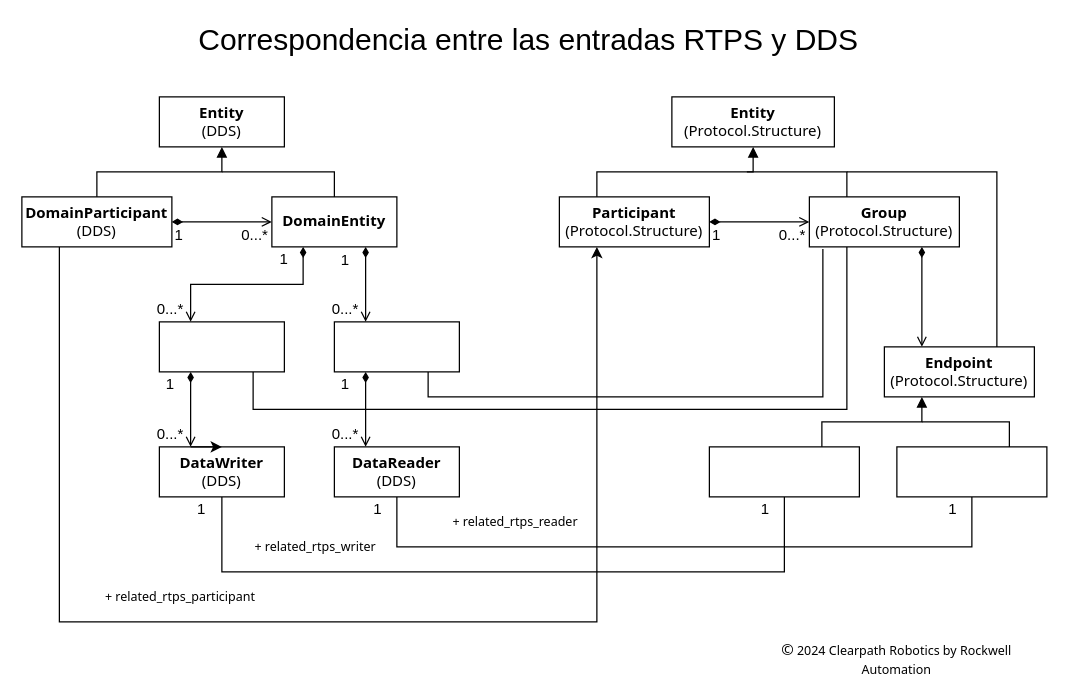
Image size: 1069x699. Some labels were removed from this diagram. Here are the shapes that lost their labels. From the top down, the box of each, then its label:
(158, 321, 284, 372): Publisher (DDS)
(333, 321, 459, 372): Subscriber (DDS)
(708, 446, 859, 497): Writer (Protocol.Structure)
(896, 446, 1047, 497): Reader (Protocol.Structure)
